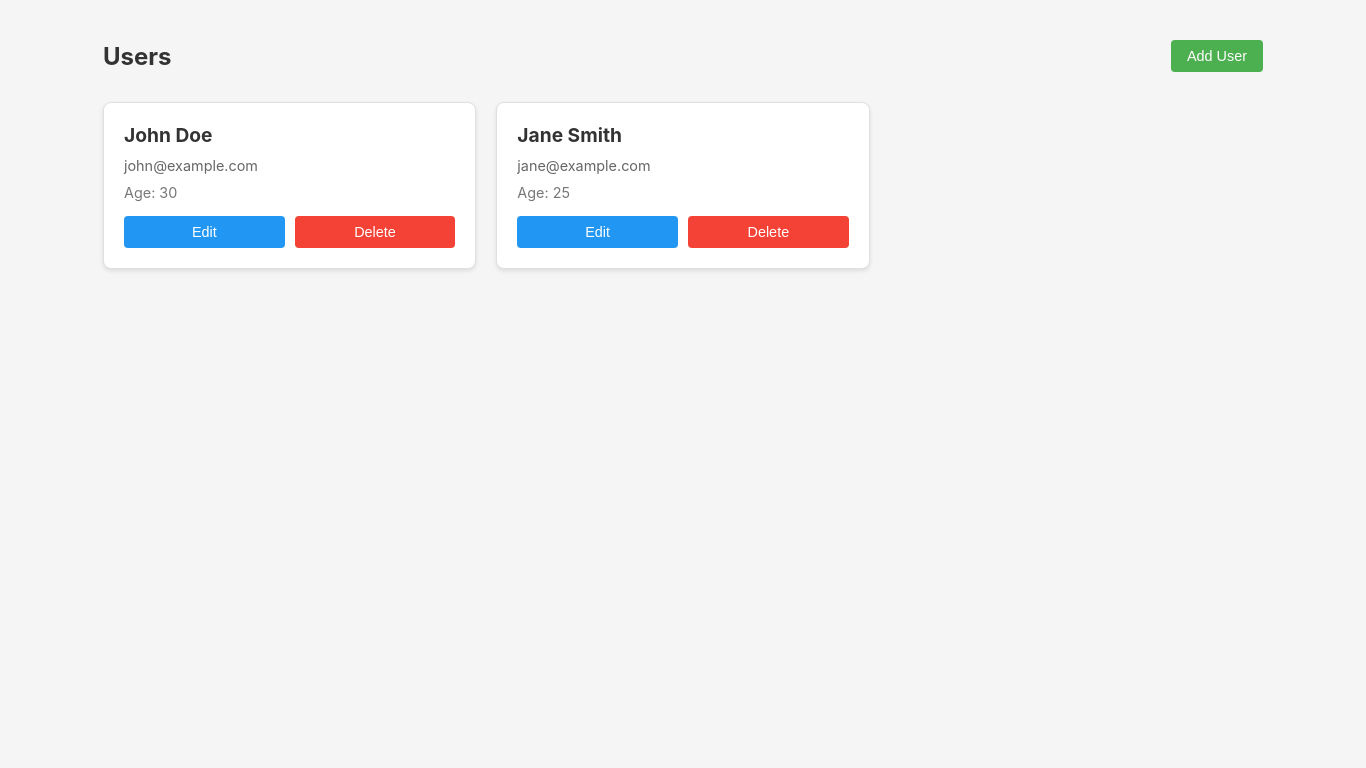
Test: UsersPage Component › should cancel form and return to list
Check: the heading "John Doe" is shown, box [124,123,212,147]
Click the button "Add User": [1217, 56] box [1171,40,1263,72]
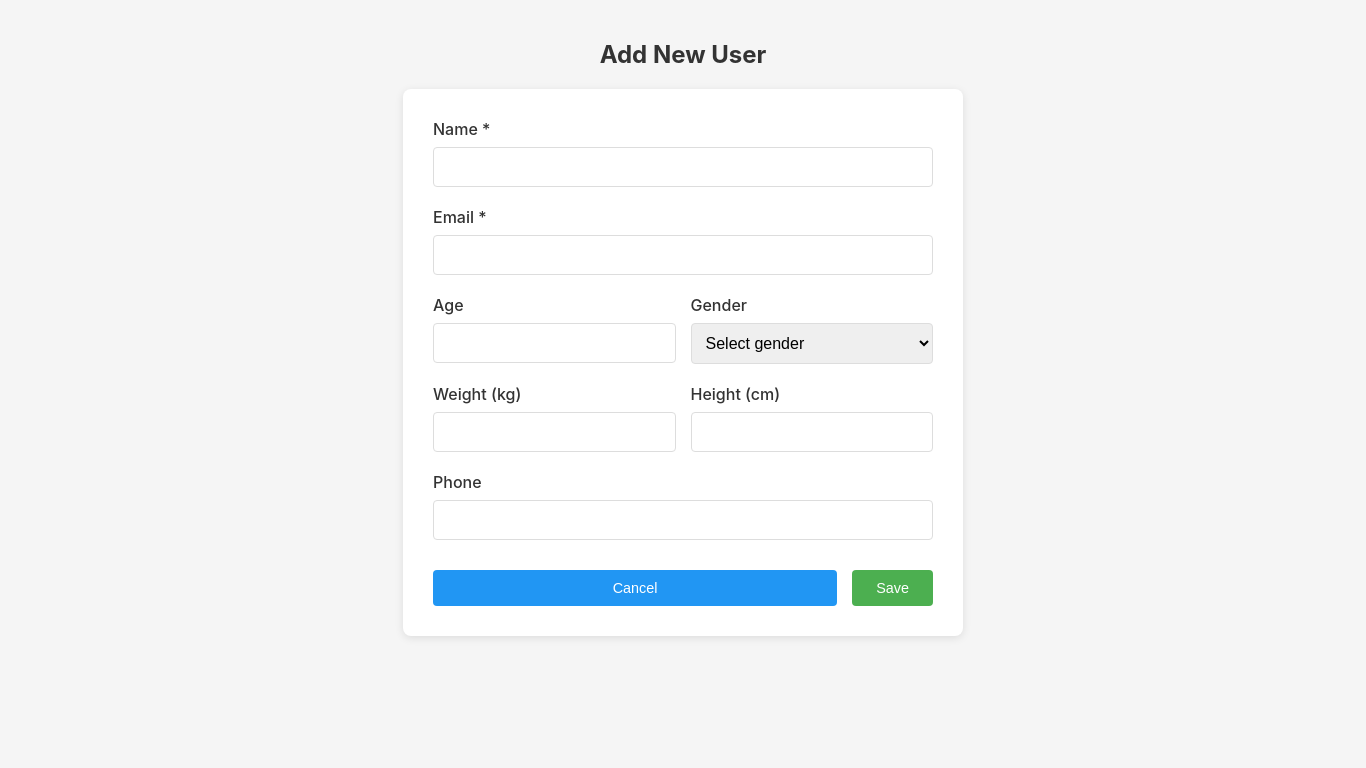
Check: the field labelled "Name *" is shown, box [433,147,933,187]
Click the button "Cancel": [635, 588] box [433,570,837,606]
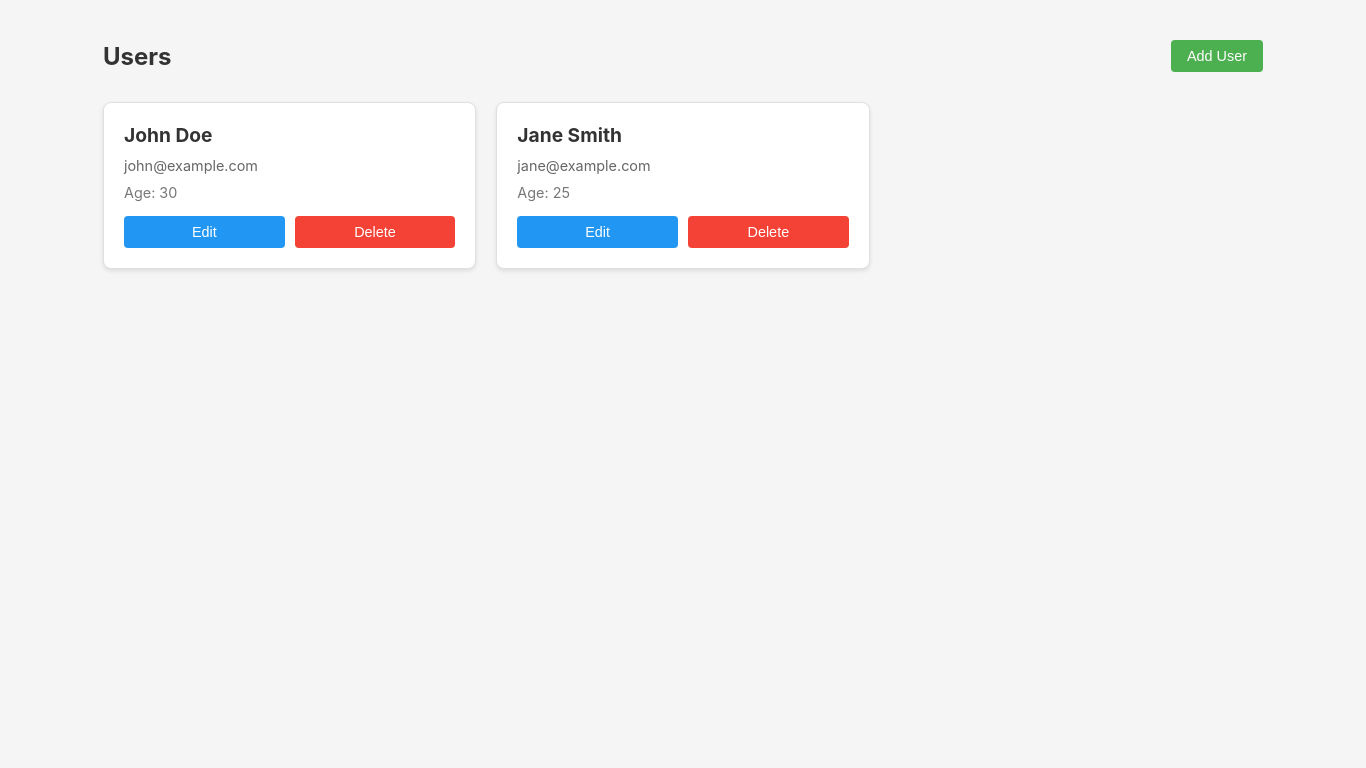
Check: the heading "John Doe" is shown, box [124,123,212,147]
